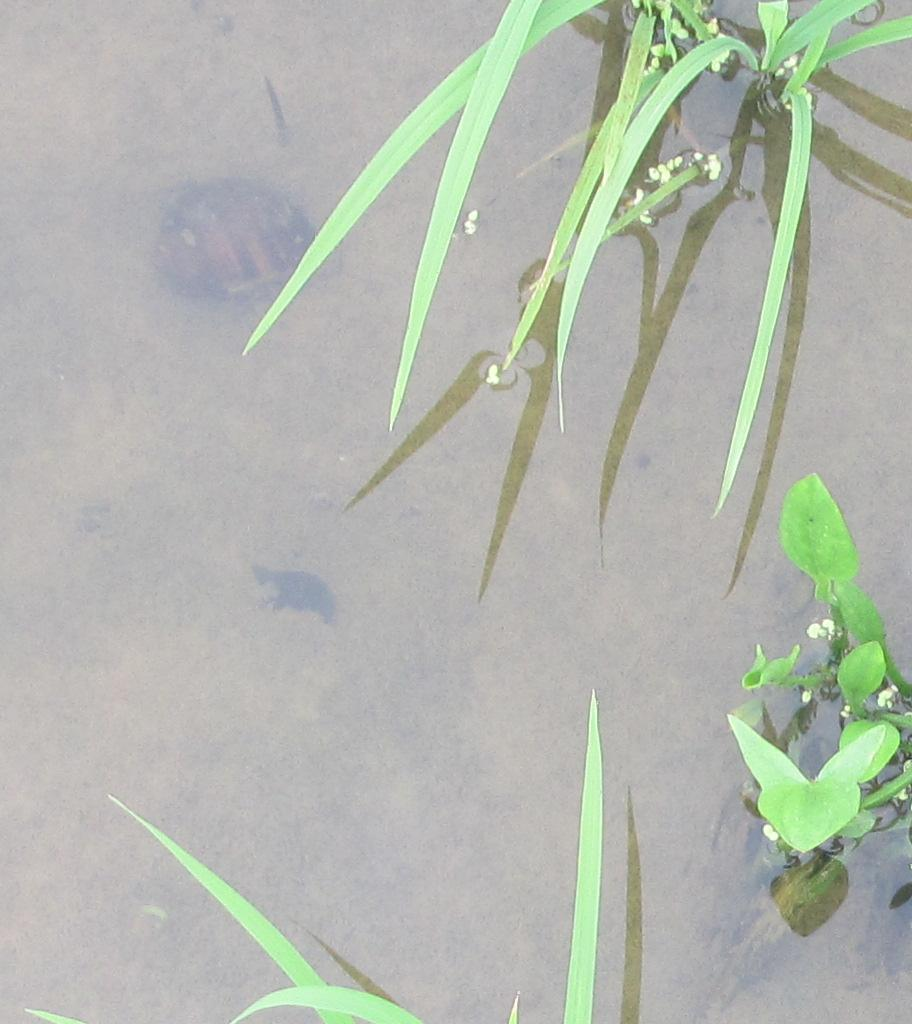Weed: (742, 477, 902, 857)
